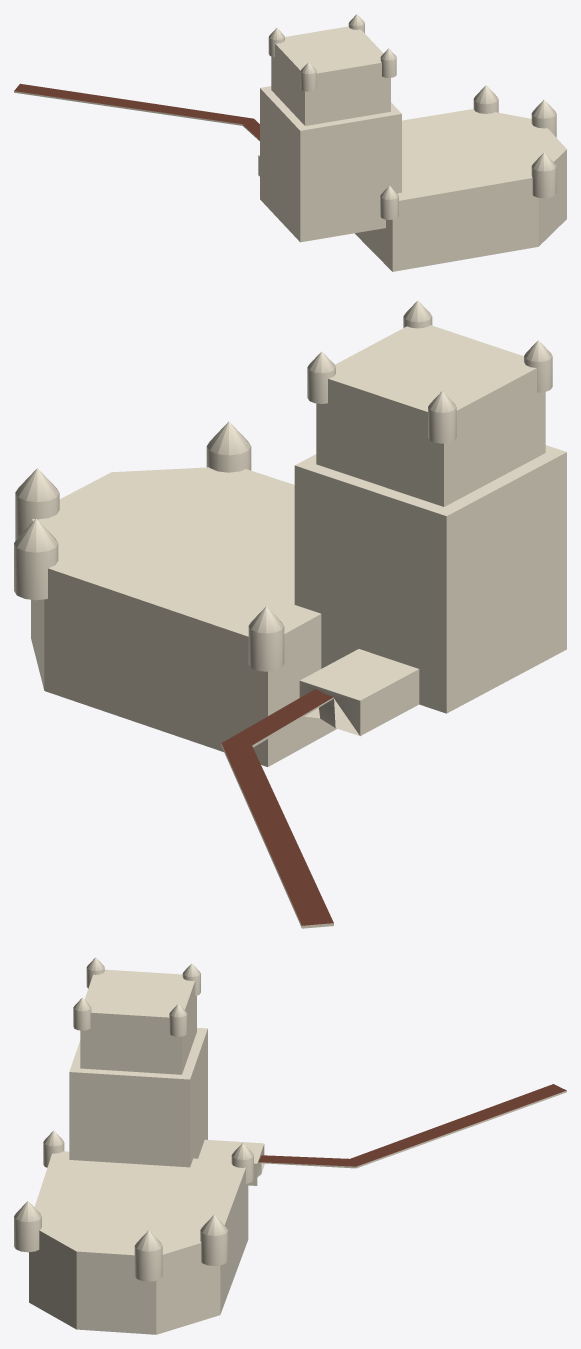
Rendered from BelemTower.glb.
3 views of the same model, one above another, from view 1: azimuth 30°, elevation 25°; view 2: azimuth 150°, elevation 25°; view 3: azimuth 270°, elevation 25° (orthographic). The views are drawn at different scales.
Visible parts, largest first — view 1: Buffer Object 5, Buffer Object 6; view 2: Buffer Object 5, Buffer Object 6; view 3: Buffer Object 5, Buffer Object 6.
Boxes of the visible parts, box(x1,y1,x2,y2) form: Buffer Object 5: box(14, 14, 566, 271); Buffer Object 6: box(14, 83, 259, 139); Buffer Object 5: box(14, 300, 566, 928); Buffer Object 6: box(221, 689, 333, 925); Buffer Object 5: box(14, 957, 566, 1334); Buffer Object 6: box(258, 1084, 566, 1166).
Bounding box in the file's own units: 61.61 × 34.67 × 73.49.
